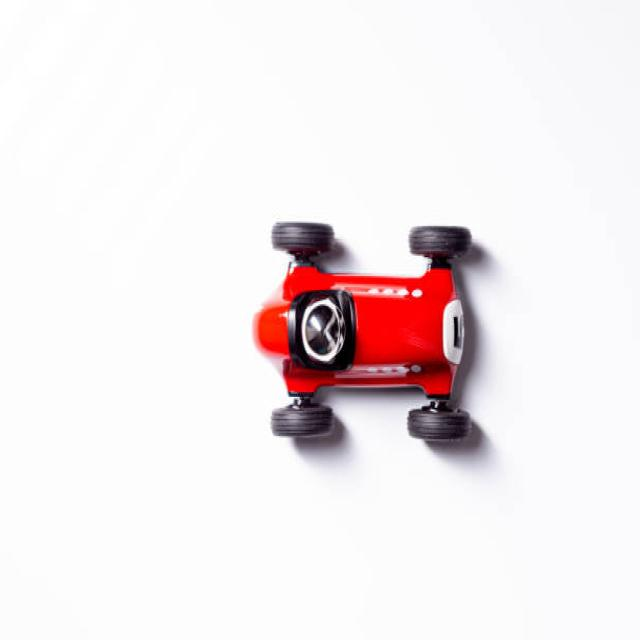Car: (252, 223, 478, 453)
